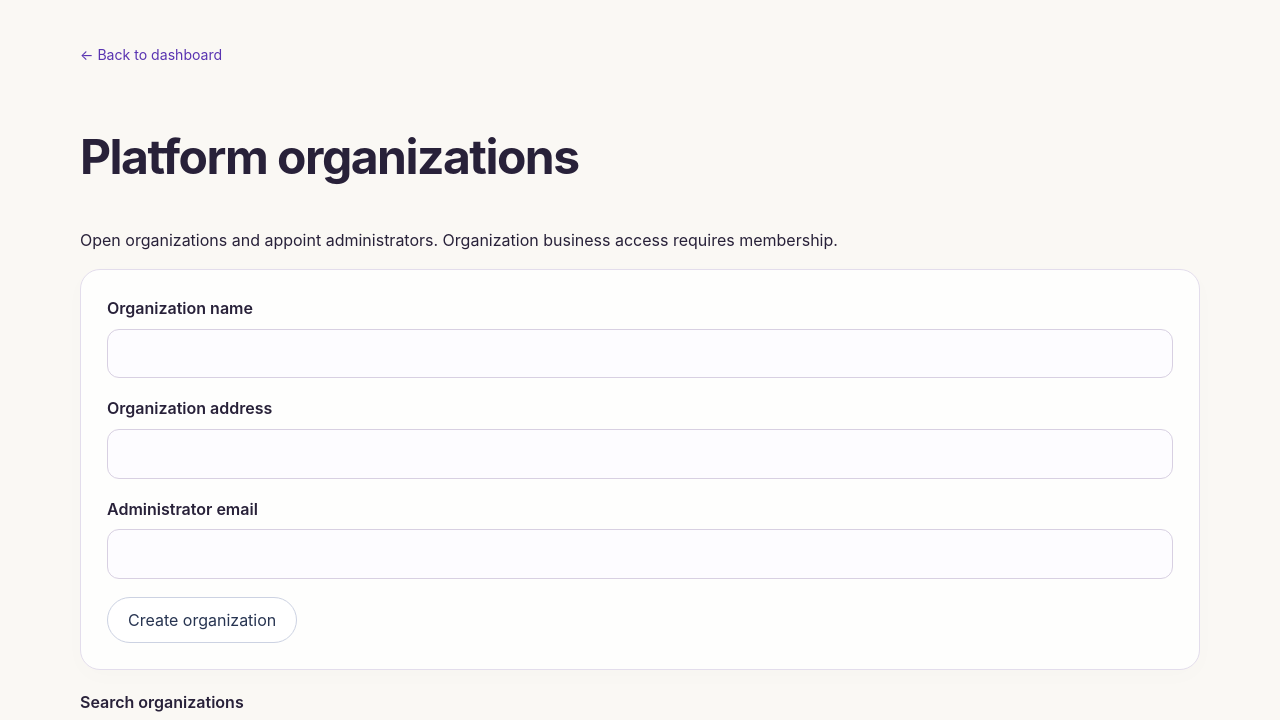
it: confirms creation even if the following list refresh fails
The width and height of the screenshot is (1280, 720).
In the field labelled "Organization name": (640, 354) [107,329,1173,378], type "Society"
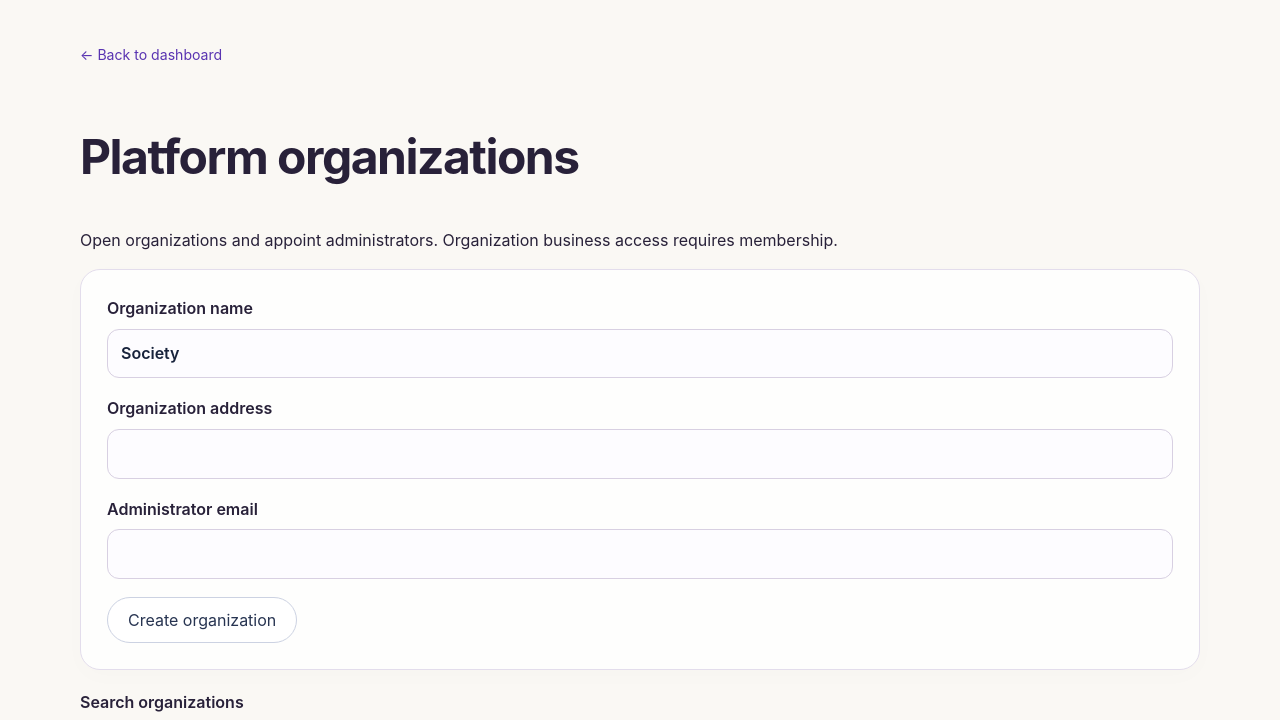
In the field labelled "Organization address": (640, 454) [107,429,1173,479], type "society"
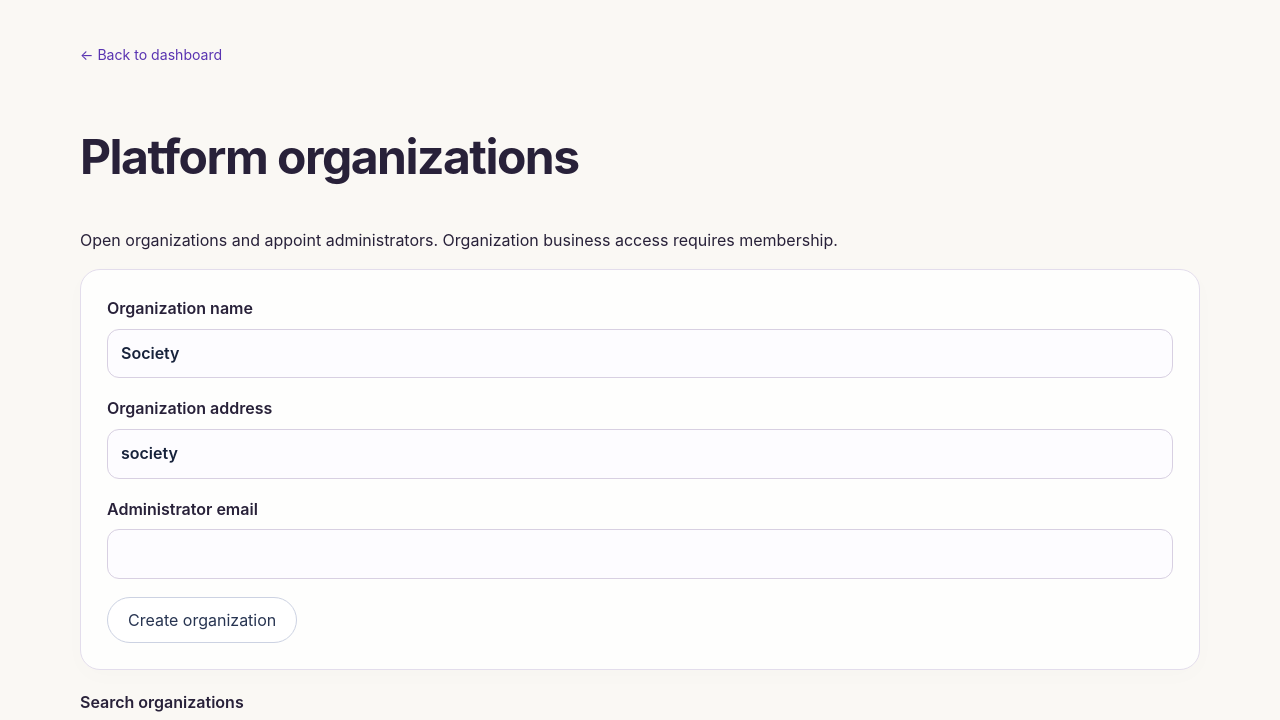
In the field labelled "Administrator email": (640, 554) [107,529,1173,579], type "owner@example.com"
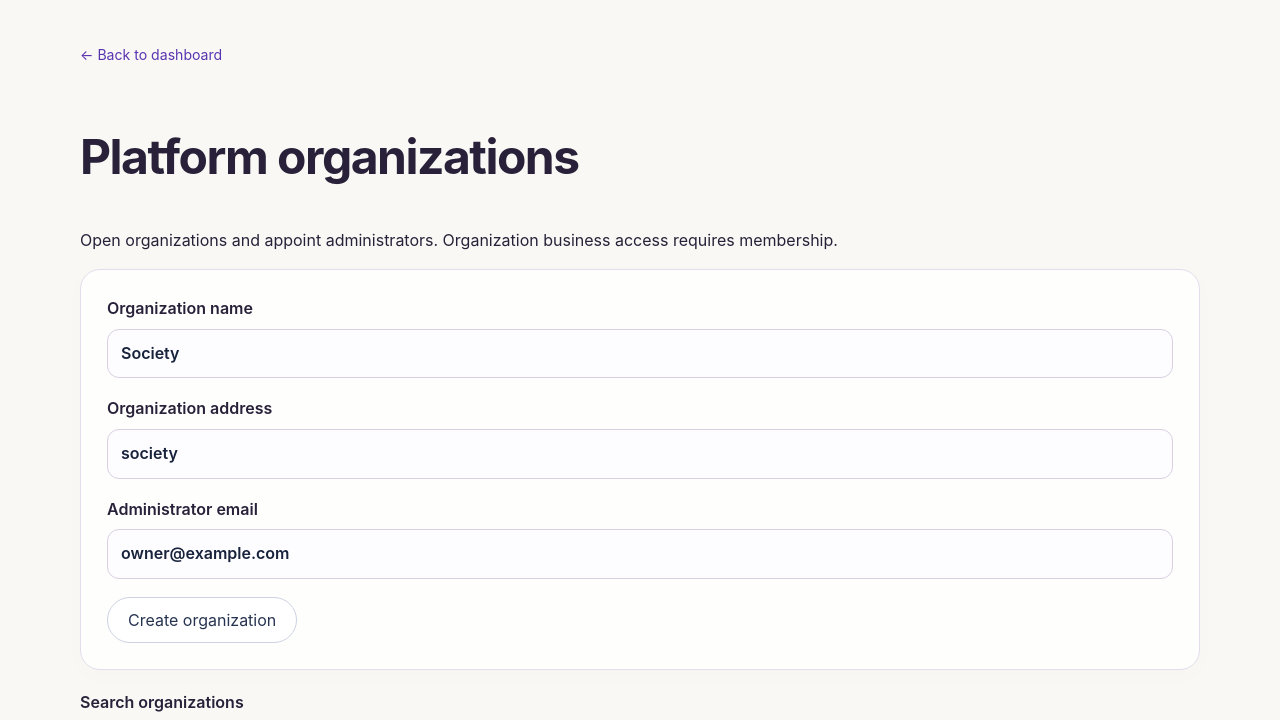
Click the button "Create organization": (202, 620) [107,597,297,643]
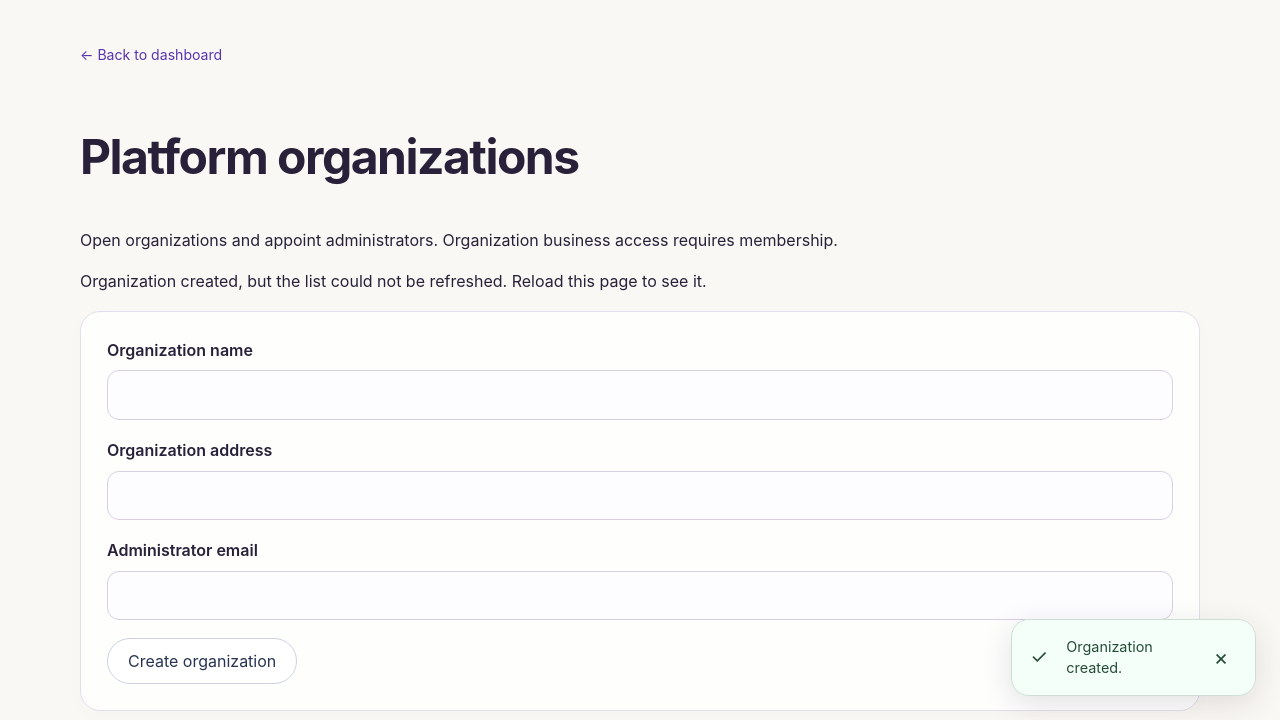
Expected: the message "✓ Organization created. ×" is shown, [1011,619,1256,696]
Expected: the 1st message shows "Organization created, but the list could not be refreshed.", [80,271,707,291]
